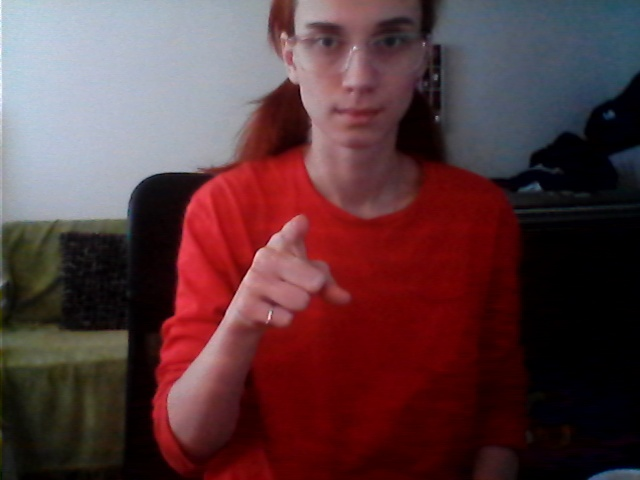ty: (226, 208, 363, 347)
